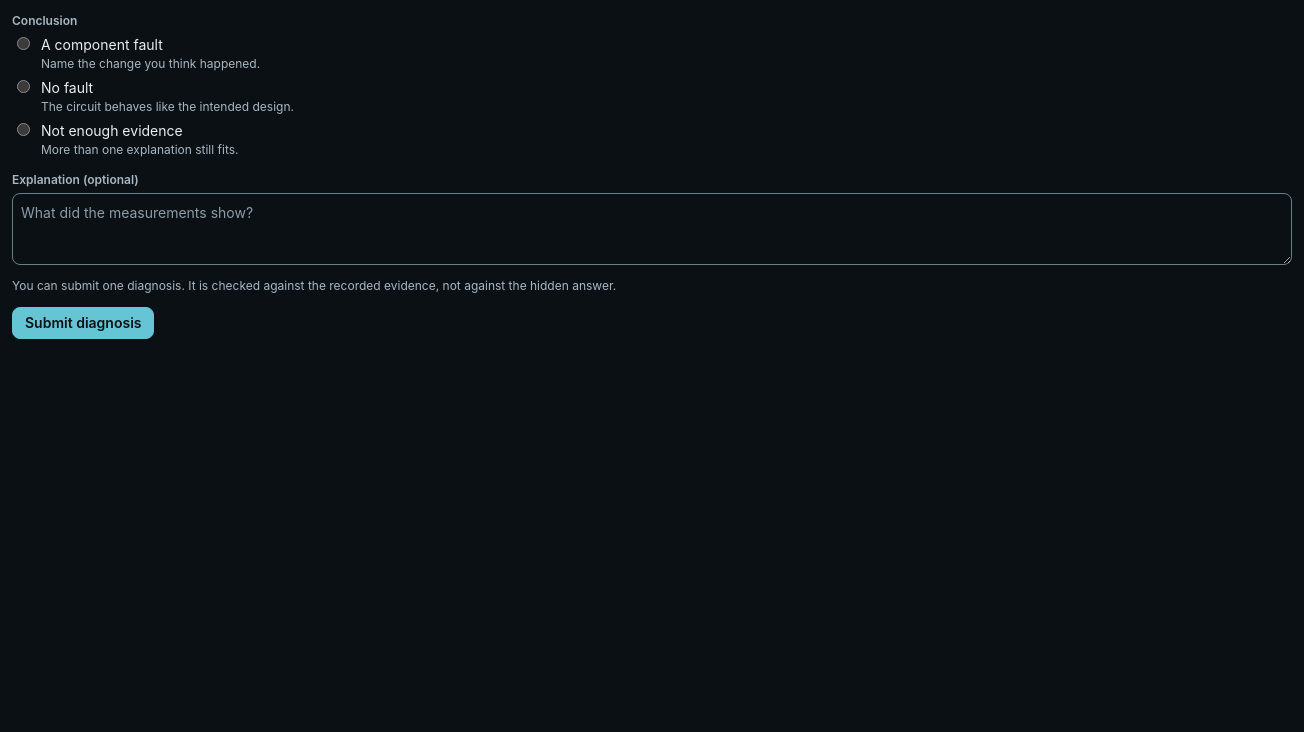
DiagnosisForm candidate defaults › follows the current evidence: explanations ruled out by later measurements are not pre-ticked
Step 1. Click the radio button labelled "Not enough evidence More than one explanation still fits." → (24, 130), box [17,123,30,136]
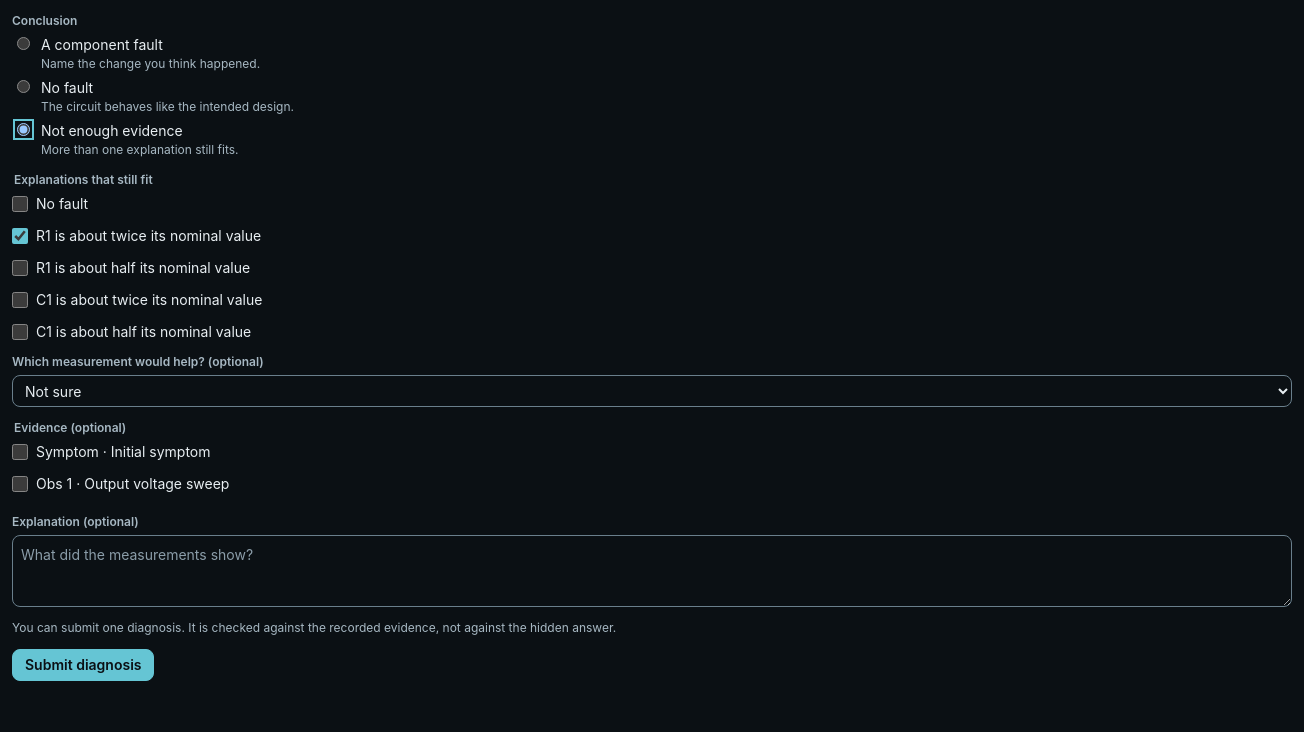
Now the checkbox labelled "R1 is about twice its nominal value" is checked, box [12,228,28,244]
Now the checkbox labelled "C1 is about twice its nominal value" is not checked, box [12,292,28,308]
